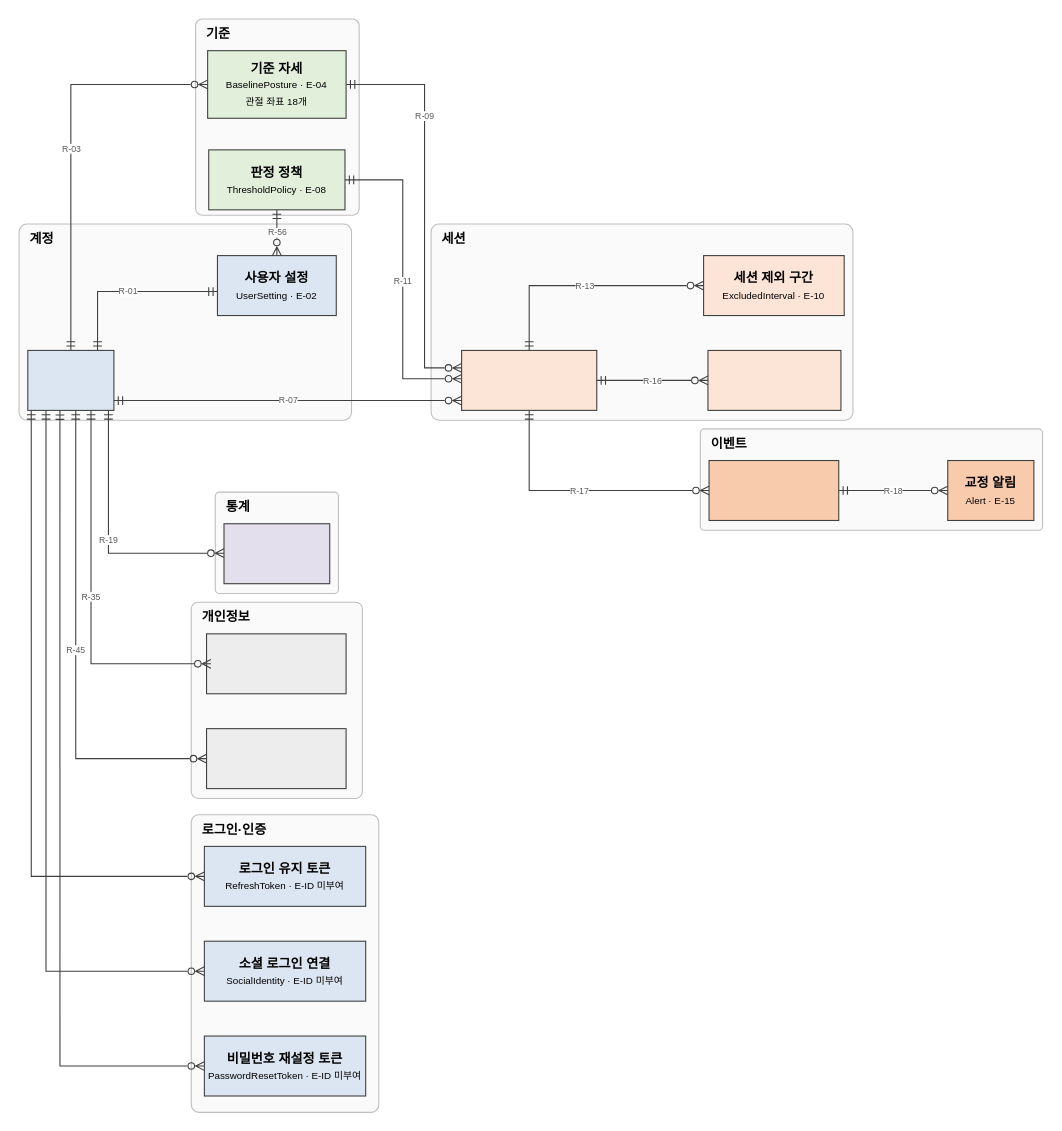
Some shapes in this 1062 by 1131 pixel diagram are drawn without their labels. The shapes that lost their labels are listed below. From the top down, each one's centre as x and y in pixels, then its label:
At [70,379]: "사용자 User · E-01".
At [529,379]: "측정 세션 MonitorSession · E-09".
At [774,379]: "특징값 적재 기록 FeatureArchive · E-13".
At [773,489]: "붕괴 이벤트 CollapseEvent · E-14".
At [276,553]: "일별 통계 DailyStat · E-16".
At [275,663]: "삭제 요청 DeletionRequest · E-31".
At [275,758]: "사용자 동의 UserConsent · E-38".
